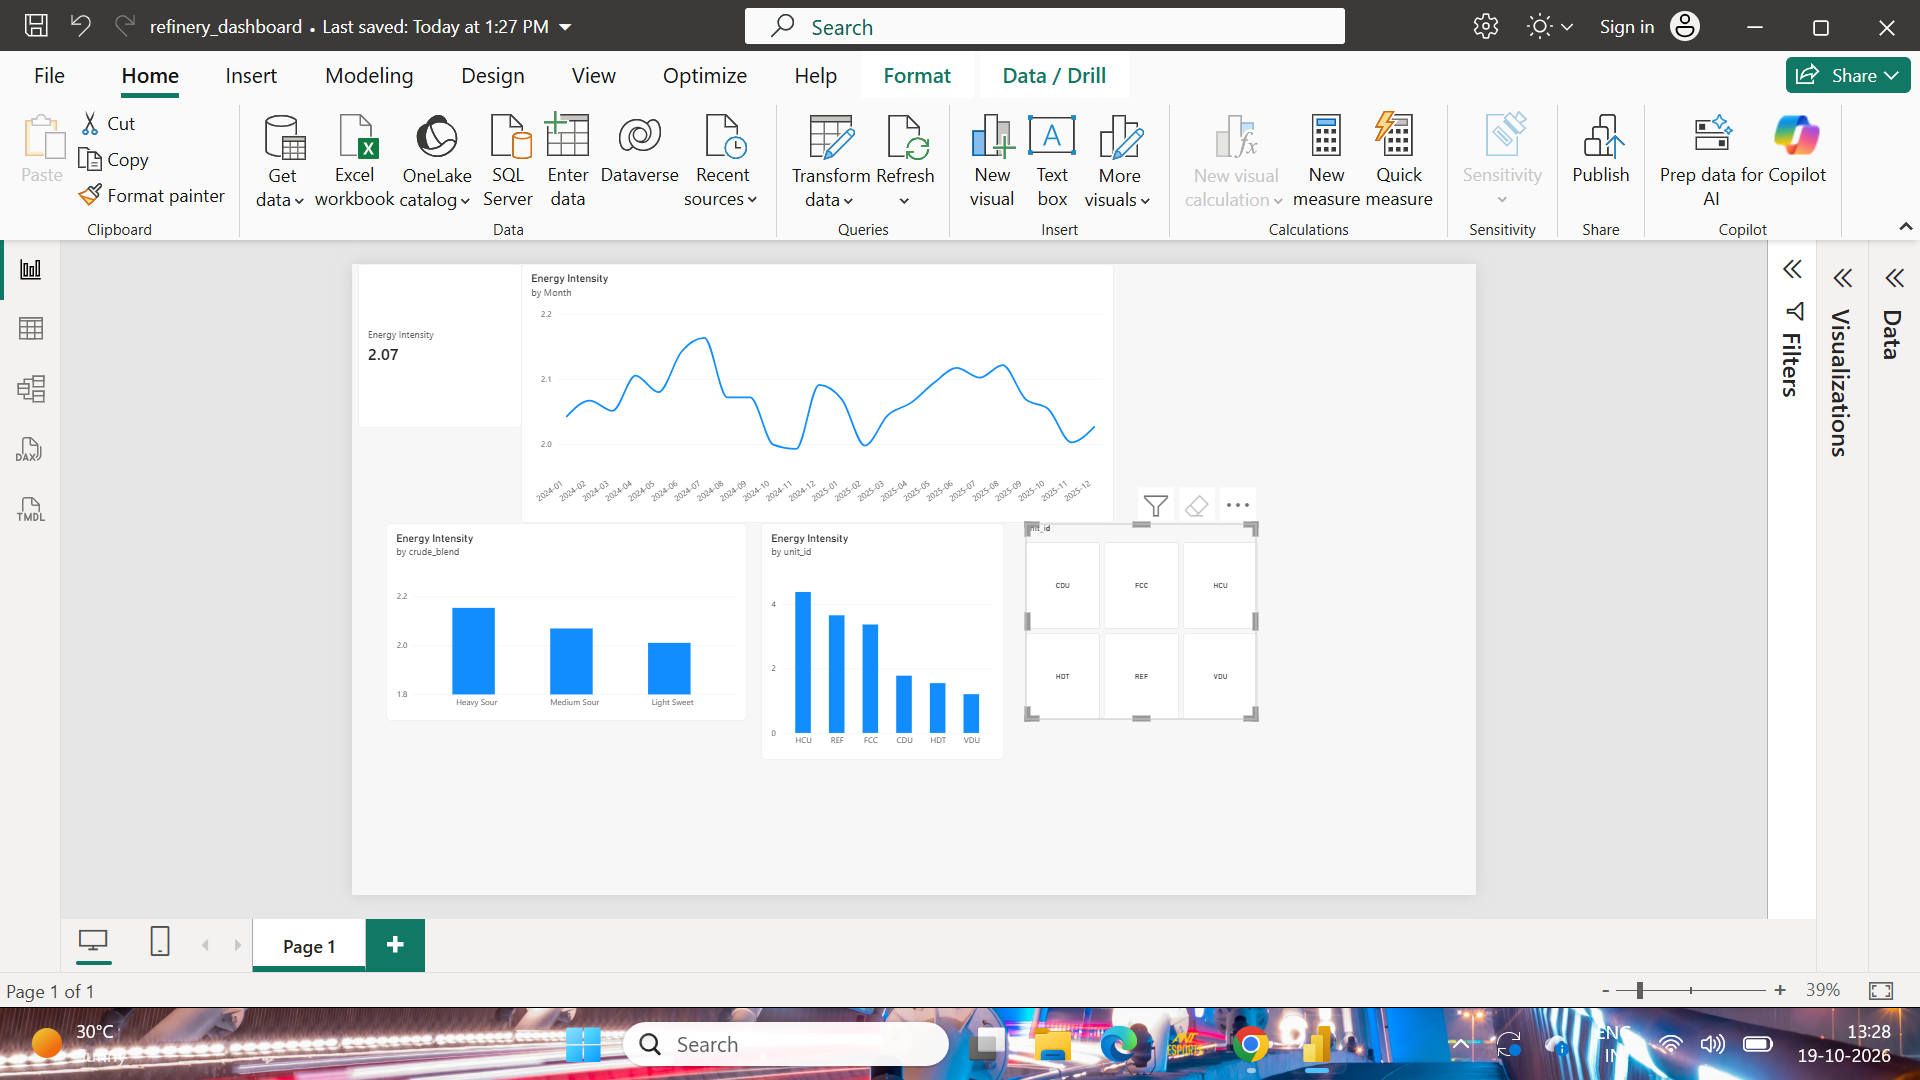

The page's visual inventory and layout, read from the dashboard file:
{"tool":"powerbi","page":{"name":"Page 1","canvas":[1920,1080],"ordinal":0},"visuals":[{"type":"cardVisual","fields":{"Data":["refinery.Energy Intensity"]},"box":[10,0,280,280],"z":0},{"type":"lineChart","fields":{"Category":["refinery.Month"],"Y":["refinery.Energy Intensity"]},"box":[10,290,1012.2,442.2],"z":1},{"type":"clusteredColumnChart","fields":{"Category":["refinery.unit_id"],"Y":["refinery.Energy Intensity"]},"box":[1080,305,414.4,403.3],"z":2},{"type":"clusteredColumnChart","fields":{"Category":["refinery.crude_blend"],"Y":["refinery.Energy Intensity"]},"box":[10,742.5,615,337.5],"z":3},{"type":"advancedSlicerVisual","fields":{"Values":["refinery.unit_id"]},"box":[625,743,397,337],"z":4}]}

Visuals, with their boxes on the page's 1920x1080 design canvas (x1, y1, x2, y2). These are canvas units, not pixel positions in the 1920x1080 screenshot, which may show the page scaled, cropped or inside an application window:
cardVisual - refinery.Energy Intensity: crop(10, 0, 290, 280)
lineChart - refinery.Month x refinery.Energy Intensity: crop(10, 290, 1022, 732)
clusteredColumnChart - refinery.unit_id x refinery.Energy Intensity: crop(1080, 305, 1494, 708)
clusteredColumnChart - refinery.crude_blend x refinery.Energy Intensity: crop(10, 742, 625, 1080)
advancedSlicerVisual - refinery.unit_id: crop(625, 743, 1022, 1080)
